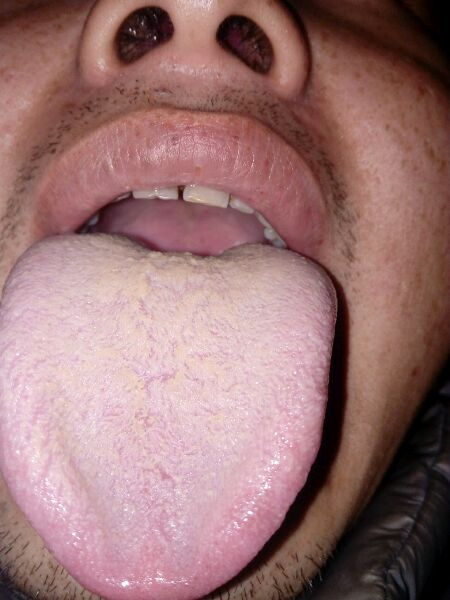huangtaishe: (1, 233, 337, 600)
shenquao: (97, 234, 261, 274)
zishe: (1, 233, 337, 600)
